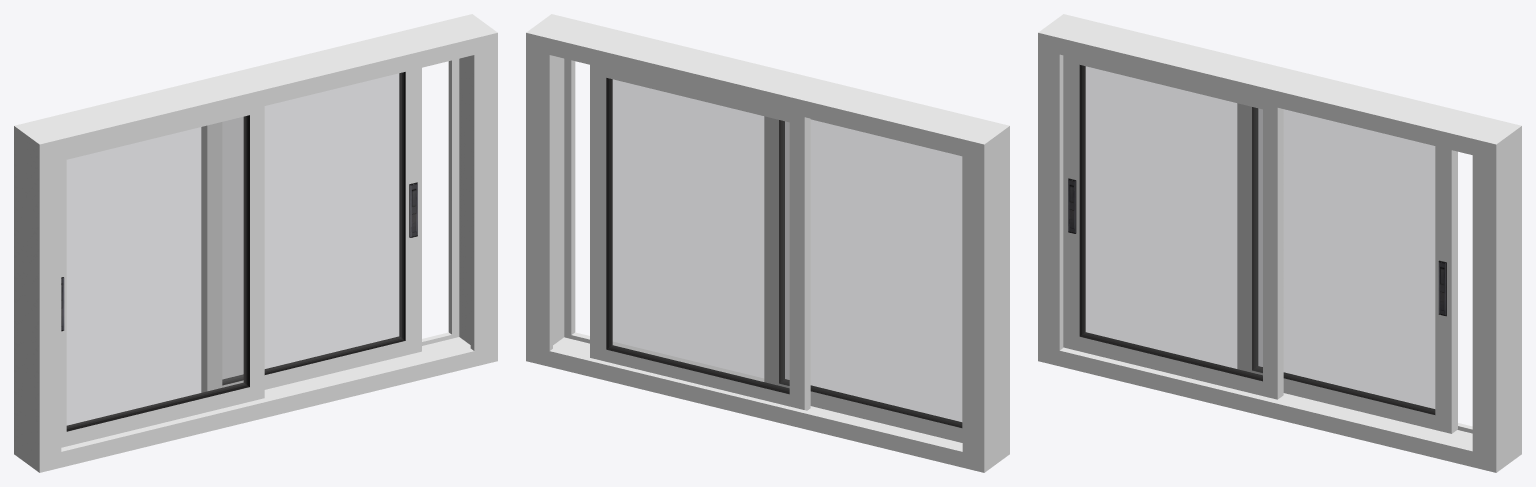
The model's file is Window.FBX.
3 renders of one model, left to right at view 1: azimuth 30°, elevation 25°; view 2: azimuth 150°, elevation 25°; view 3: azimuth 330°, elevation 25°, orthographic.
Parts seen in each view (by area): view 1: window frame, window A, window B; view 2: window B, window frame, window A; view 3: window A, window B, window frame.
Boxes of the visible parts, bbox=[...] form: window frame: bbox=[14, 14, 497, 472]; window A: bbox=[61, 106, 264, 447]; window B: bbox=[201, 68, 421, 392]; window B: bbox=[590, 65, 810, 410]; window frame: bbox=[526, 14, 1009, 472]; window A: bbox=[764, 116, 962, 442]; window A: bbox=[1063, 55, 1283, 399]; window B: bbox=[1237, 103, 1457, 433]; window frame: bbox=[1038, 14, 1521, 472].
Bounding box in the file's own units: 175 × 120 × 16.92.
2 materials, 1 textured.
